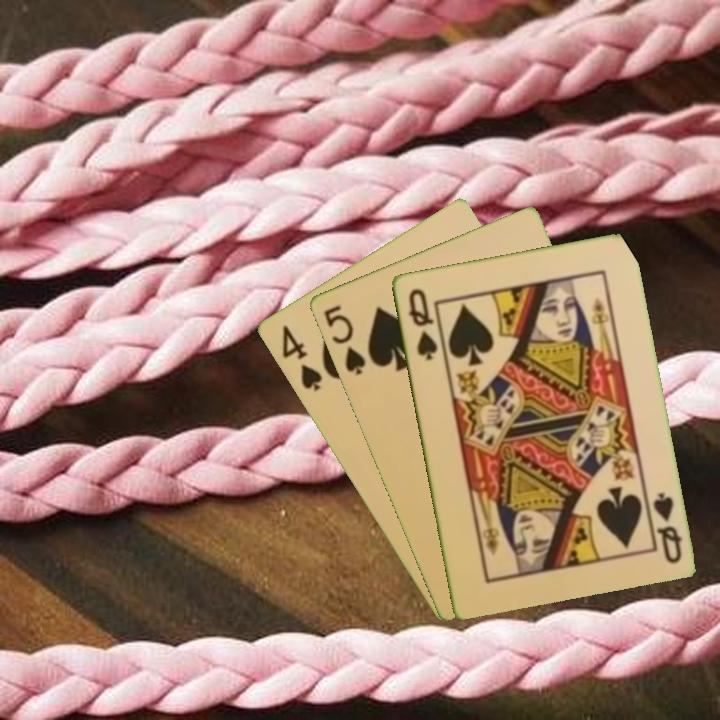4s: (277, 321, 325, 394)
5s: (319, 301, 368, 378)
Qs: (643, 488, 684, 566), (404, 284, 440, 362)
